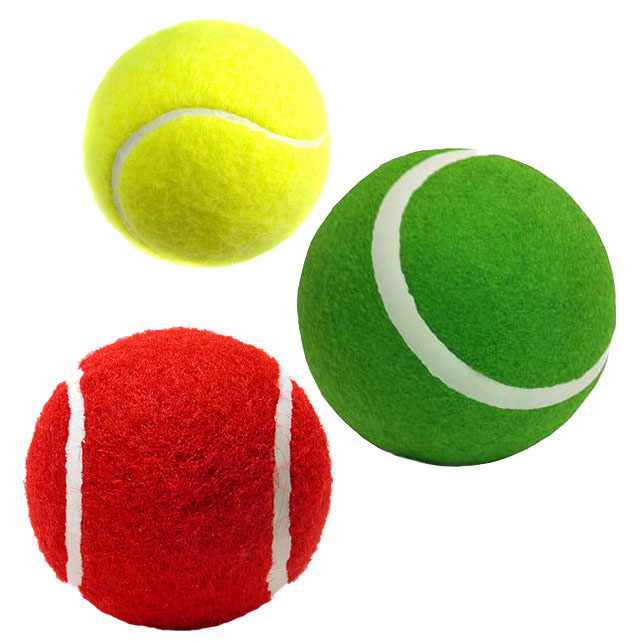red ball: (23, 325, 335, 633)
